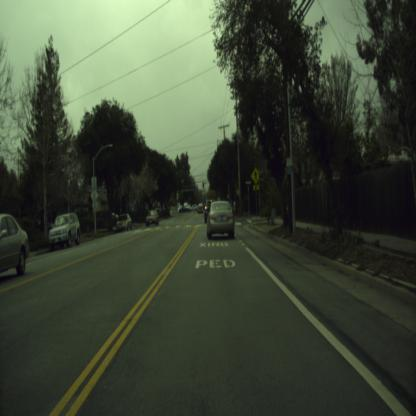Red: (202, 180, 204, 188)
